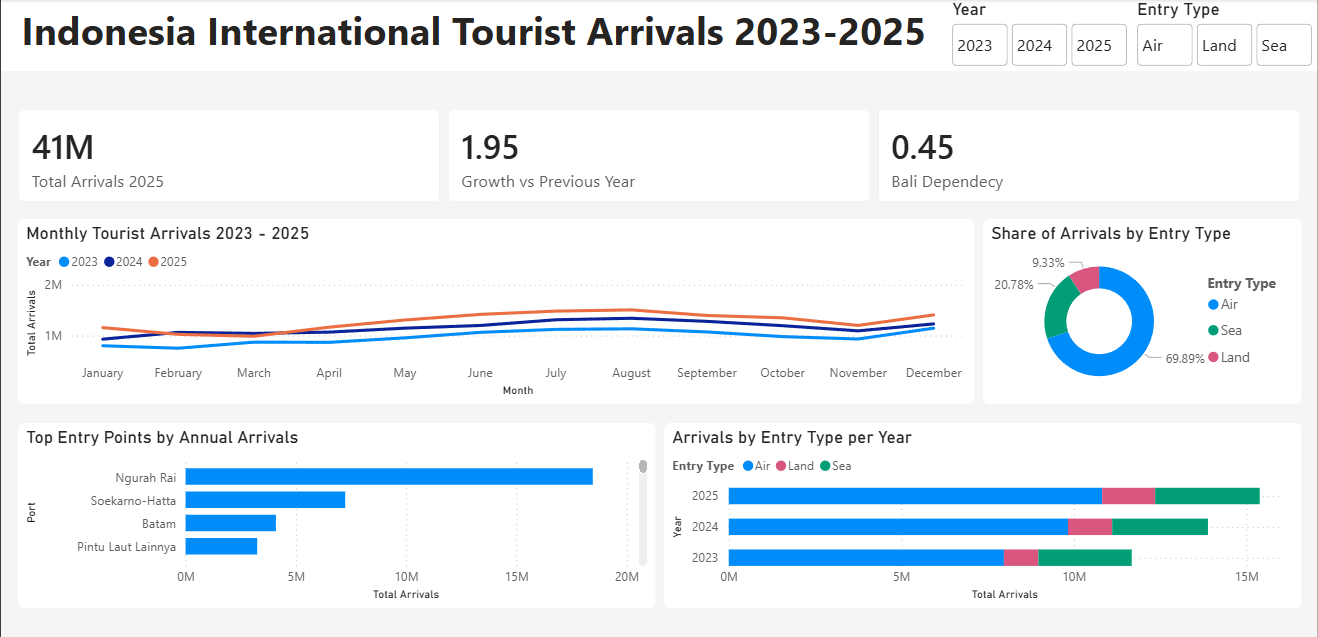

The page's visual inventory and layout, read from the dashboard file:
{"tool":"powerbi","page":{"name":"Page 1","canvas":[1280,720],"ordinal":0},"visuals":[{"type":"cardVisual","fields":{"Data":["indonesia_tourism_clean.Total Arrivals","indonesia_tourism_clean.YoY Growth %","indonesia_tourism_clean.Bali Share %"]},"box":[0,90,1280,124],"z":0},{"type":"lineChart","title":"Monthly Tourist Arrivals 2023 - 2025","fields":{"Category":["indonesia_tourism_clean.Date.Variation.Date Hierarchy.Month"],"Y":["indonesia_tourism_clean.Total Arrivals"],"Series":["indonesia_tourism_clean.Date.Variation.Date Hierarchy.Year"]},"box":[17,214,930,180],"z":1000},{"type":"barChart","title":"Arrivals by Entry Type per Year","fields":{"Category":["indonesia_tourism_clean.year"],"Y":["indonesia_tourism_clean.Total Arrivals"],"Series":["indonesia_tourism_clean.entry_type"]},"box":[645,412,620,180],"z":2000},{"type":"clusteredBarChart","title":"Top Entry Points by Annual Arrivals","fields":{"Category":["indonesia_tourism_clean.port"],"Y":["indonesia_tourism_clean.Total Arrivals"]},"box":[17,412,620,180],"z":3000},{"type":"donutChart","title":"Share of Arrivals by Entry Type","fields":{"Category":["indonesia_tourism_clean.entry_type"],"Y":["indonesia_tourism_clean.Total Arrivals"]},"box":[955,214,310,180],"z":4000},{"type":"advancedSlicerVisual","fields":{"Values":["indonesia_tourism_clean.entry_type"]},"box":[1100,0,180,70],"z":5000},{"type":"advancedSlicerVisual","fields":{"Values":["indonesia_tourism_clean.year"]},"box":[920,0,180,70],"z":6000},{"type":"textbox","box":[0,0,920,70],"z":7000}]}

Visuals, with their boxes on the page's 1280x720 design canvas (x1, y1, x2, y2). These are canvas units, not pixel positions in the 1318x637 screenshot, which may show the page scaled, cropped or inside an application window:
cardVisual - indonesia_tourism_clean.Total Arrivals x indonesia_tourism_clean.YoY Growth %: rect(0, 90, 1280, 214)
"Monthly Tourist Arrivals 2023 - 2025" lineChart: rect(17, 214, 947, 394)
"Arrivals by Entry Type per Year" barChart: rect(645, 412, 1265, 592)
"Top Entry Points by Annual Arrivals" clusteredBarChart: rect(17, 412, 637, 592)
"Share of Arrivals by Entry Type" donutChart: rect(955, 214, 1265, 394)
advancedSlicerVisual - indonesia_tourism_clean.entry_type: rect(1100, 0, 1280, 70)
advancedSlicerVisual - indonesia_tourism_clean.year: rect(920, 0, 1100, 70)
textbox: rect(0, 0, 920, 70)
